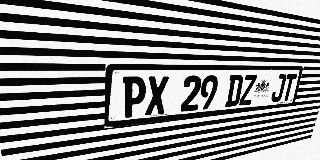2: (180, 75, 202, 112)
9: (198, 75, 219, 110)
D: (225, 75, 244, 107)
J: (270, 74, 287, 102)
P: (122, 76, 147, 118)
T: (281, 74, 297, 101)
X: (145, 76, 169, 116)
Z: (239, 75, 257, 106)
